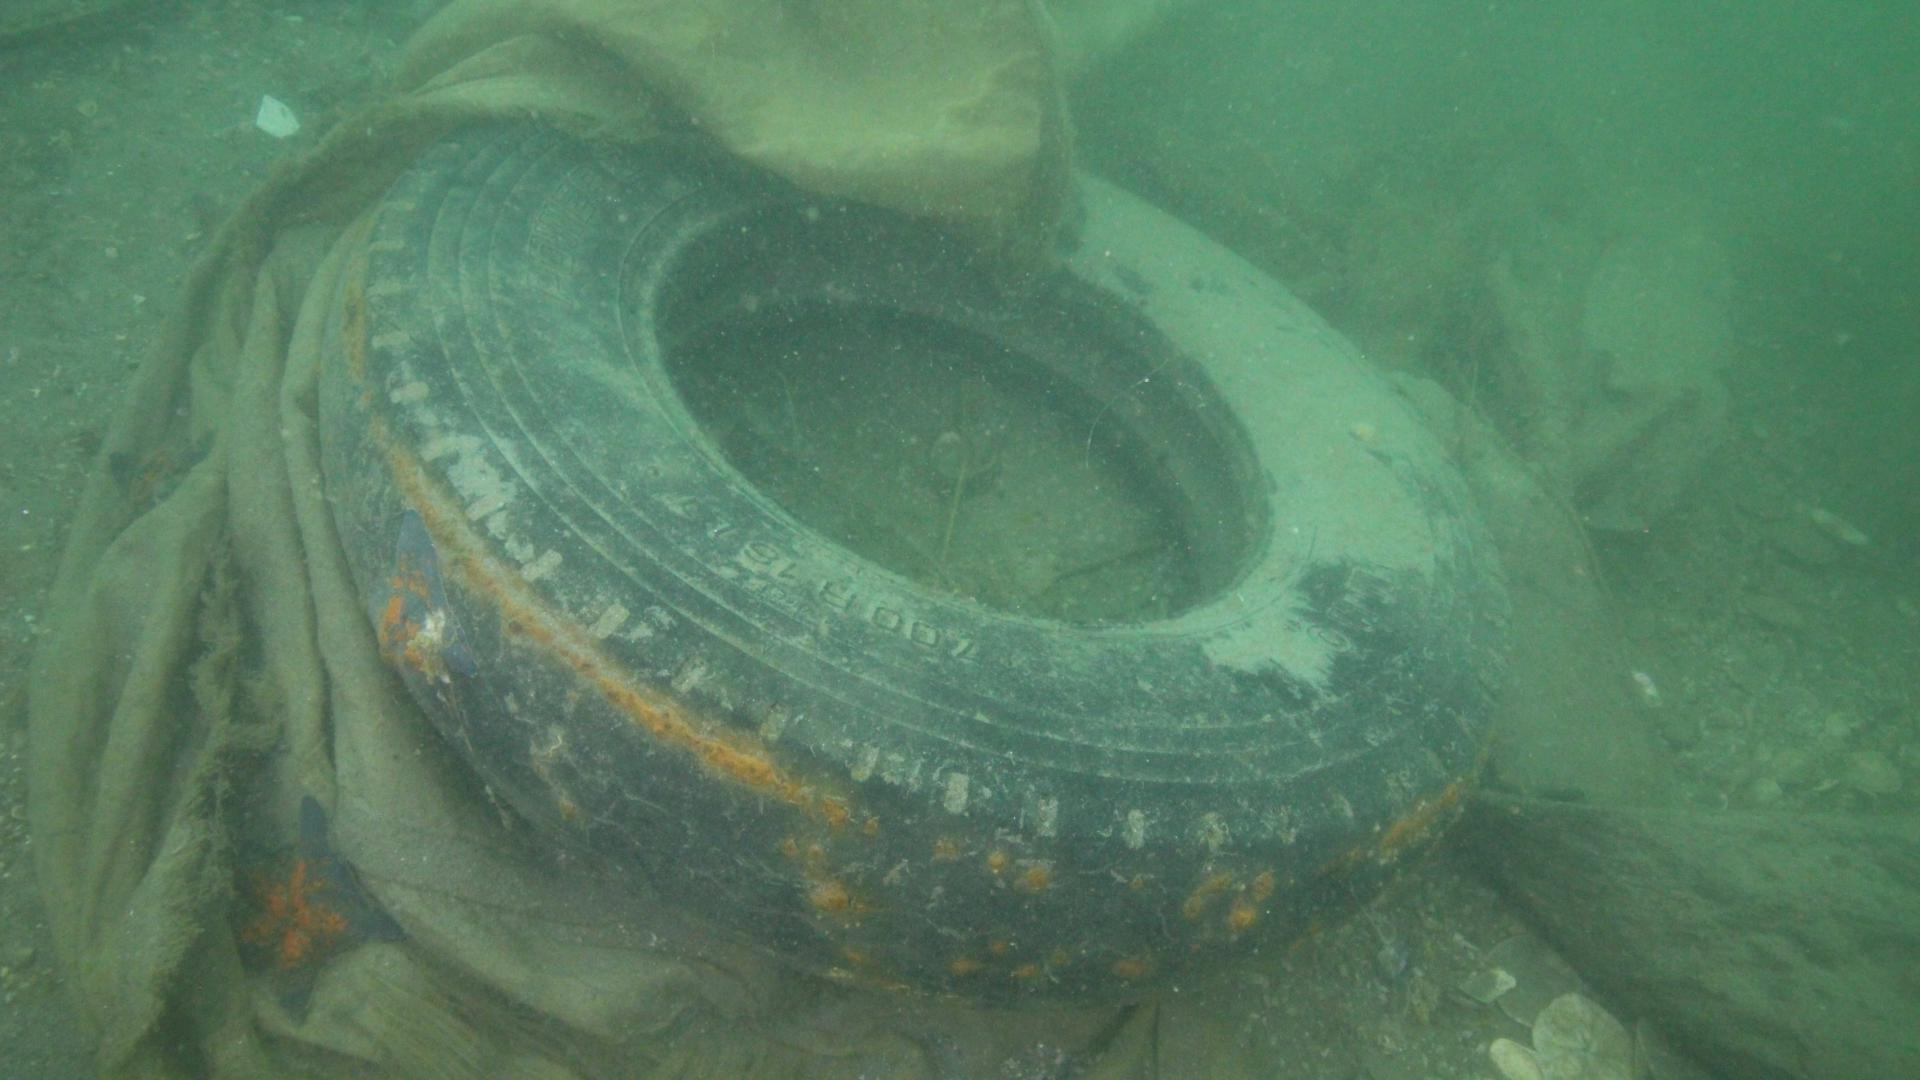tire: (309, 117, 1516, 998)
